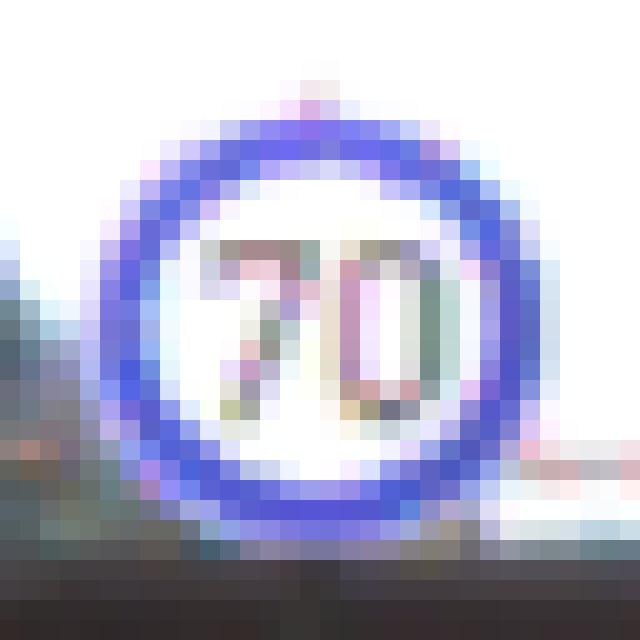SPEED LIMIT 70: (77, 116, 545, 534)
